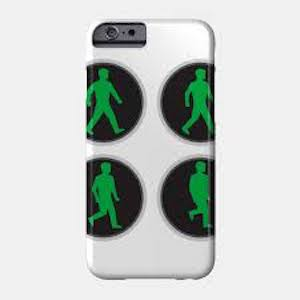green: (84, 159, 125, 234), (86, 69, 127, 139), (176, 159, 213, 235), (175, 66, 214, 137)
